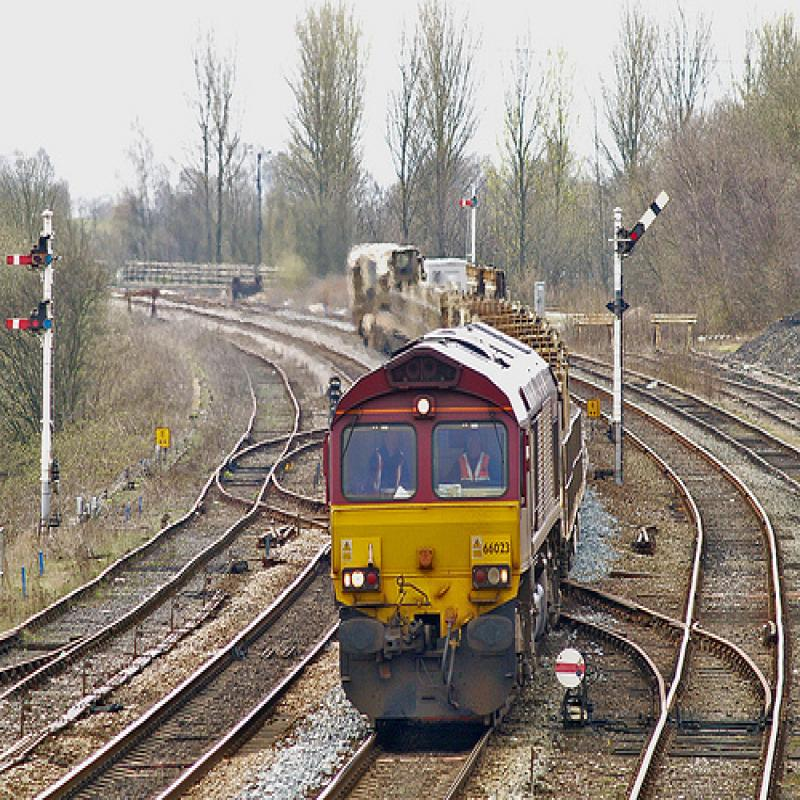train: (325, 244, 592, 752)
